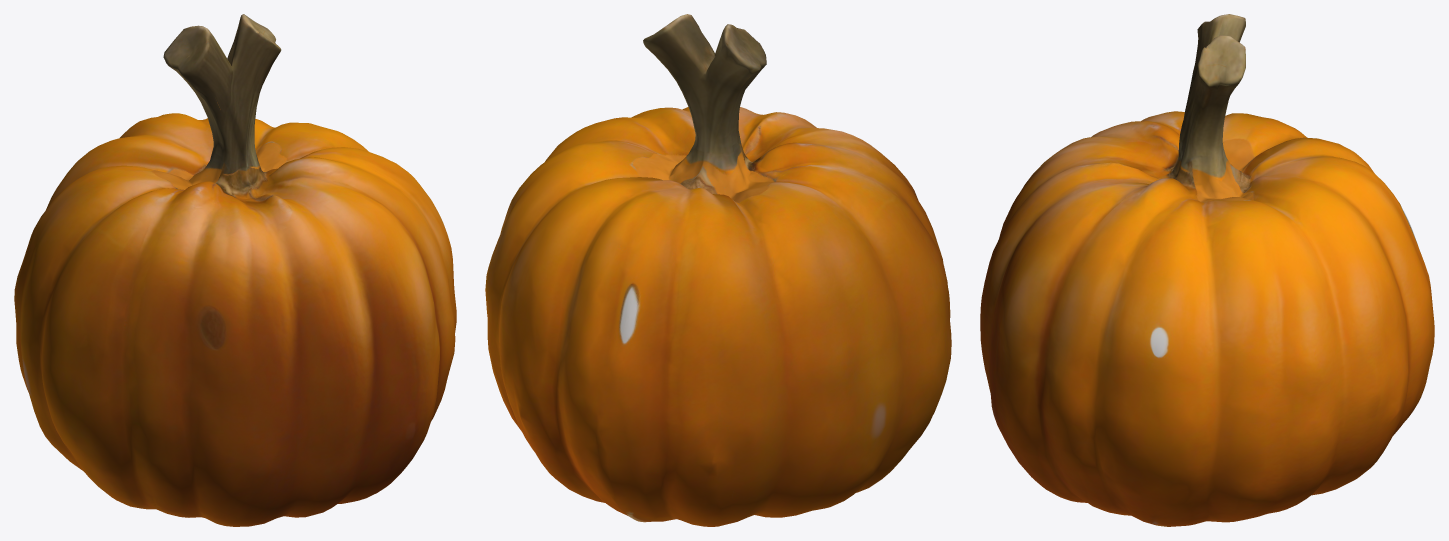
Rendered from pumpkin.gltf.
3 renders of one model, left to right at view 1: azimuth 30°, elevation 25°; view 2: azimuth 150°, elevation 25°; view 3: azimuth 270°, elevation 25°, orthographic. The views are drawn at different scales.
Visible parts, largest first — view 1: Mesh_0; view 2: Mesh_0; view 3: Mesh_0.
Part boxes in pixels (<box>): Mesh_0: <box>14,14,456,526</box>; Mesh_0: <box>485,14,951,526</box>; Mesh_0: <box>980,14,1434,526</box>.
Size of the model in its own units: 1.87 by 1.99 by 1.82.
1 material, 1 textured.
